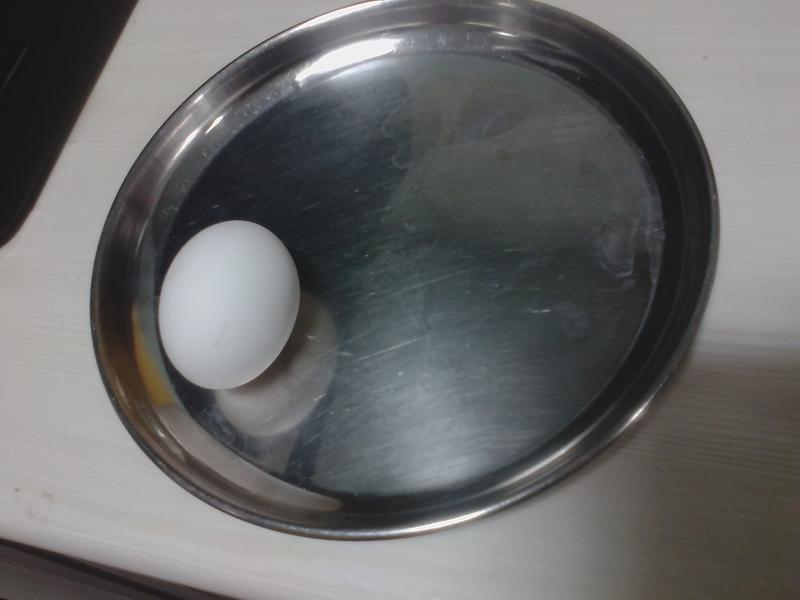egg: (152, 220, 297, 389)
